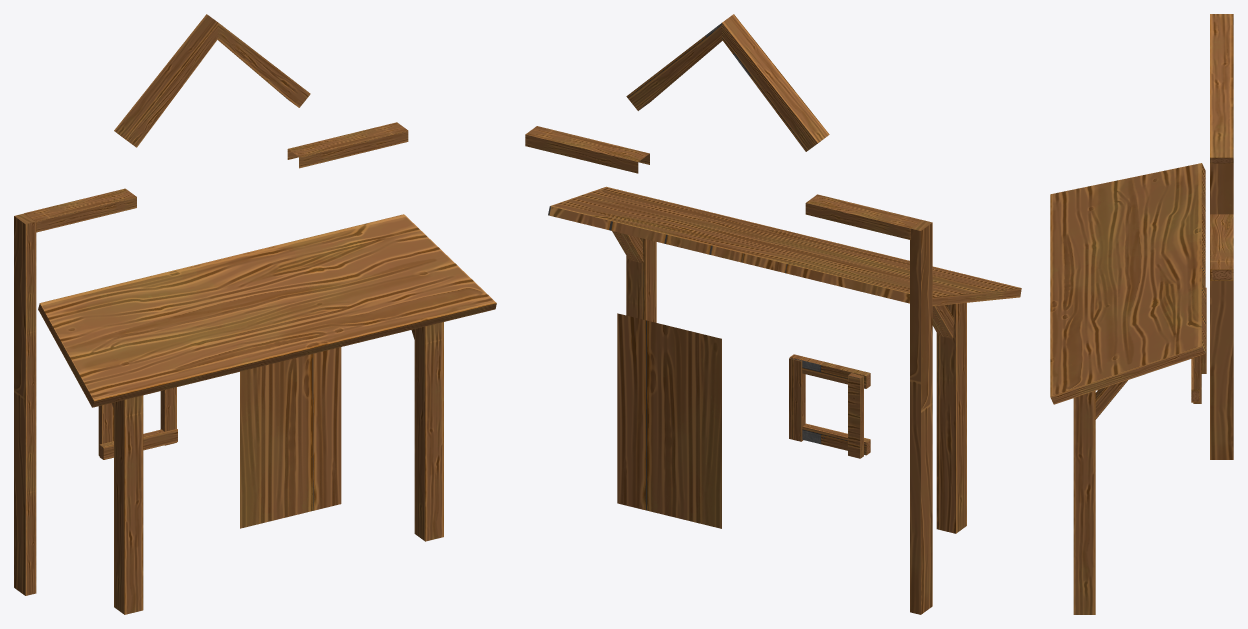
3 views of the same model, side by side, from view 1: azimuth 30°, elevation 25°; view 2: azimuth 150°, elevation 25°; view 3: azimuth 270°, elevation 25° (orthographic). The views are drawn at different scales.
Parts seen in each view (by area): view 1: Cube.245; view 2: Cube.245; view 3: Cube.245.
Part boxes in pixels (x1,y1,x2,y2): Cube.245: [14, 14, 496, 614]; Cube.245: [525, 14, 1021, 614]; Cube.245: [1050, 14, 1233, 614].
Bounding box in the file's own units: 711 × 888 × 272.
